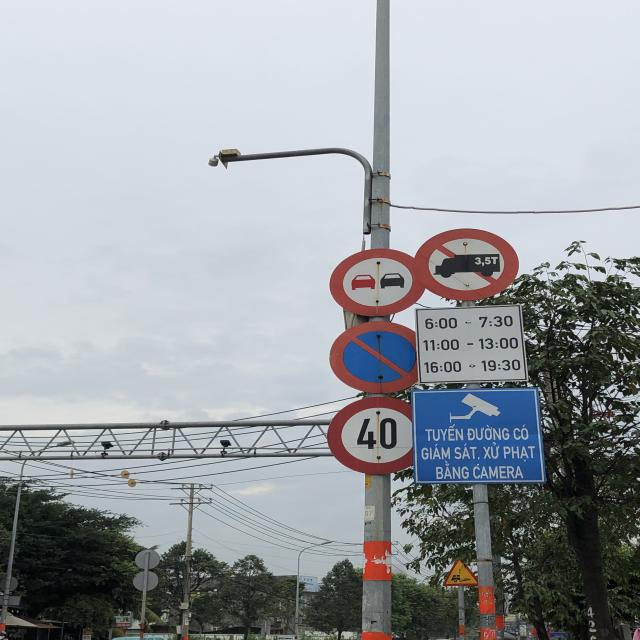Bien bao cam vuot: (326, 245, 424, 316)
